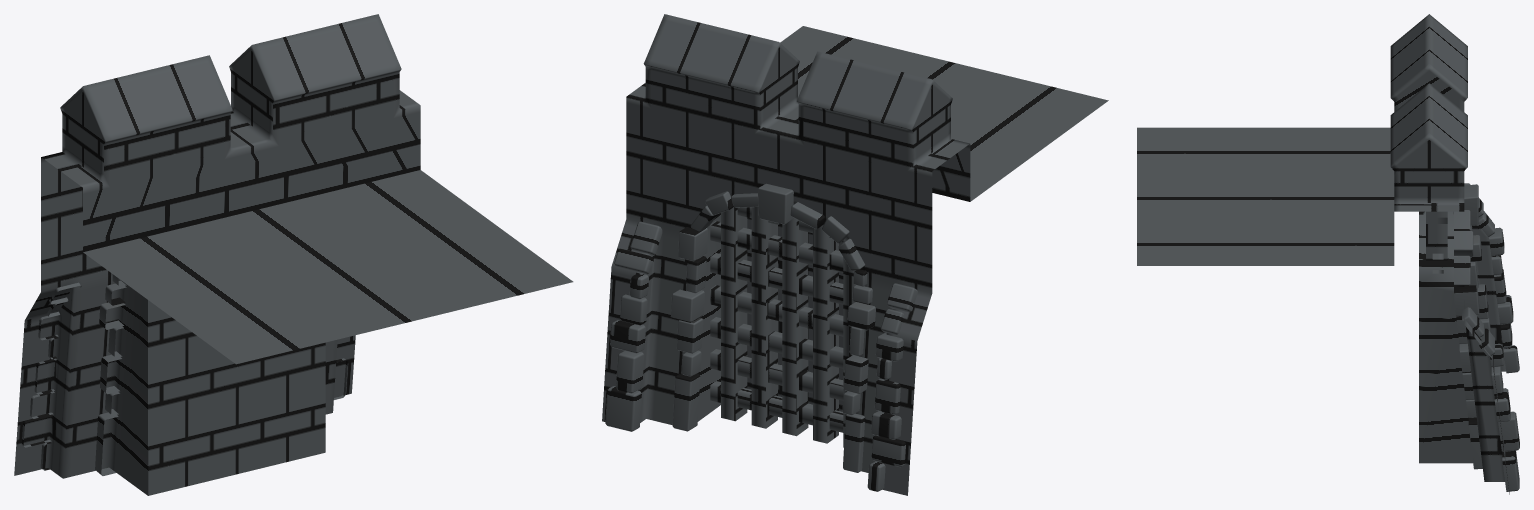
File: GateWall.fbx
3 renders of one model, left to right at view 1: azimuth 30°, elevation 25°; view 2: azimuth 150°, elevation 25°; view 3: azimuth 270°, elevation 25°, orthographic. The views are drawn at different scales.
Visible parts, largest first — view 1: GateBase, GateWalkway, GateWallShingles, GateWallBricks; view 2: GateBase, Gate, GateWallBricks, GateWalkway, GateWallShingles; view 3: GateWalkway, GateBase, GateWallBricks, GateWallShingles, Gate.
Boxes of the visible parts, <box> form: GateBase: <box>14,51,420,495</box>; GateWalkway: <box>83,170,573,364</box>; GateWallShingles: <box>60,14,401,142</box>; GateWallBricks: <box>21,274,347,475</box>; GateBase: <box>602,47,970,495</box>; Gate: <box>710,207,855,447</box>; GateWallBricks: <box>605,183,917,491</box>; GateWalkway: <box>780,26,1108,201</box>; GateWallShingles: <box>643,14,952,130</box>; GateWalkway: <box>1137,127,1394,265</box>; GateBase: <box>1392,70,1509,494</box>; GateWallBricks: <box>1453,183,1519,491</box>; GateWallShingles: <box>1390,14,1467,168</box>; Gate: <box>1426,211,1447,273</box>.
Bounding box in the file's own units: 3 × 3.57 × 3.51.
